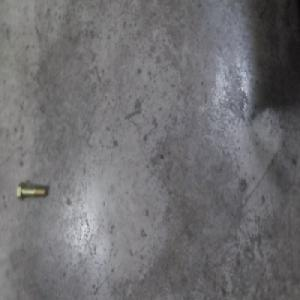Bolt: (16, 184, 46, 205)
